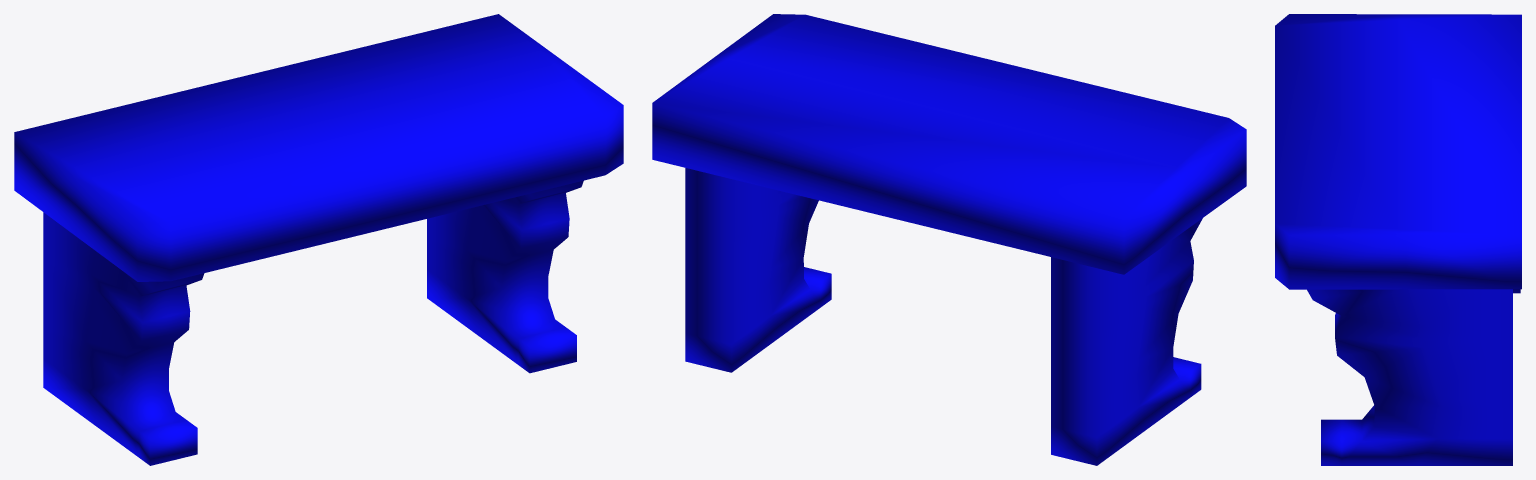
The model's file is Shelf.fbx.
3 renders of one model, left to right at view 1: azimuth 30°, elevation 25°; view 2: azimuth 150°, elevation 25°; view 3: azimuth 270°, elevation 25°, orthographic. The views are drawn at different scales.
Visible parts, largest first — view 1: Box149; view 2: Box149; view 3: Box149.
Part boxes in pixels (x1,y1,x2,y2): Box149: (14, 14, 623, 465); Box149: (652, 14, 1246, 465); Box149: (1275, 14, 1521, 465).
Size of the model in its own units: 22.63 by 11.65 by 10.67.
